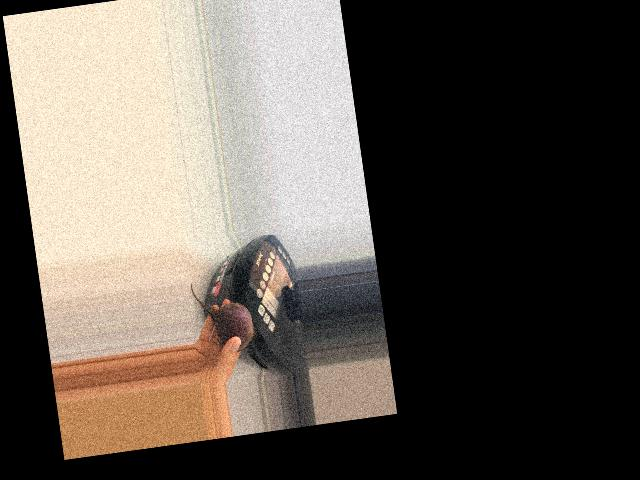beet: (190, 275, 258, 356)
